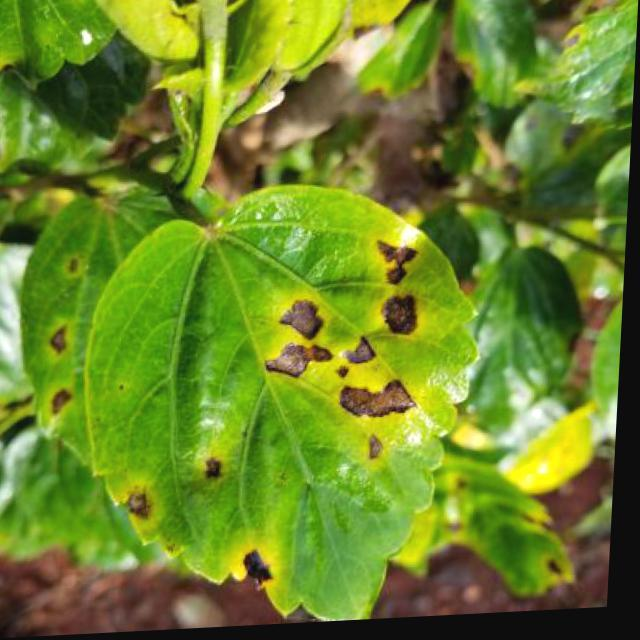Tomato late blight leaf: (84, 178, 503, 634)
